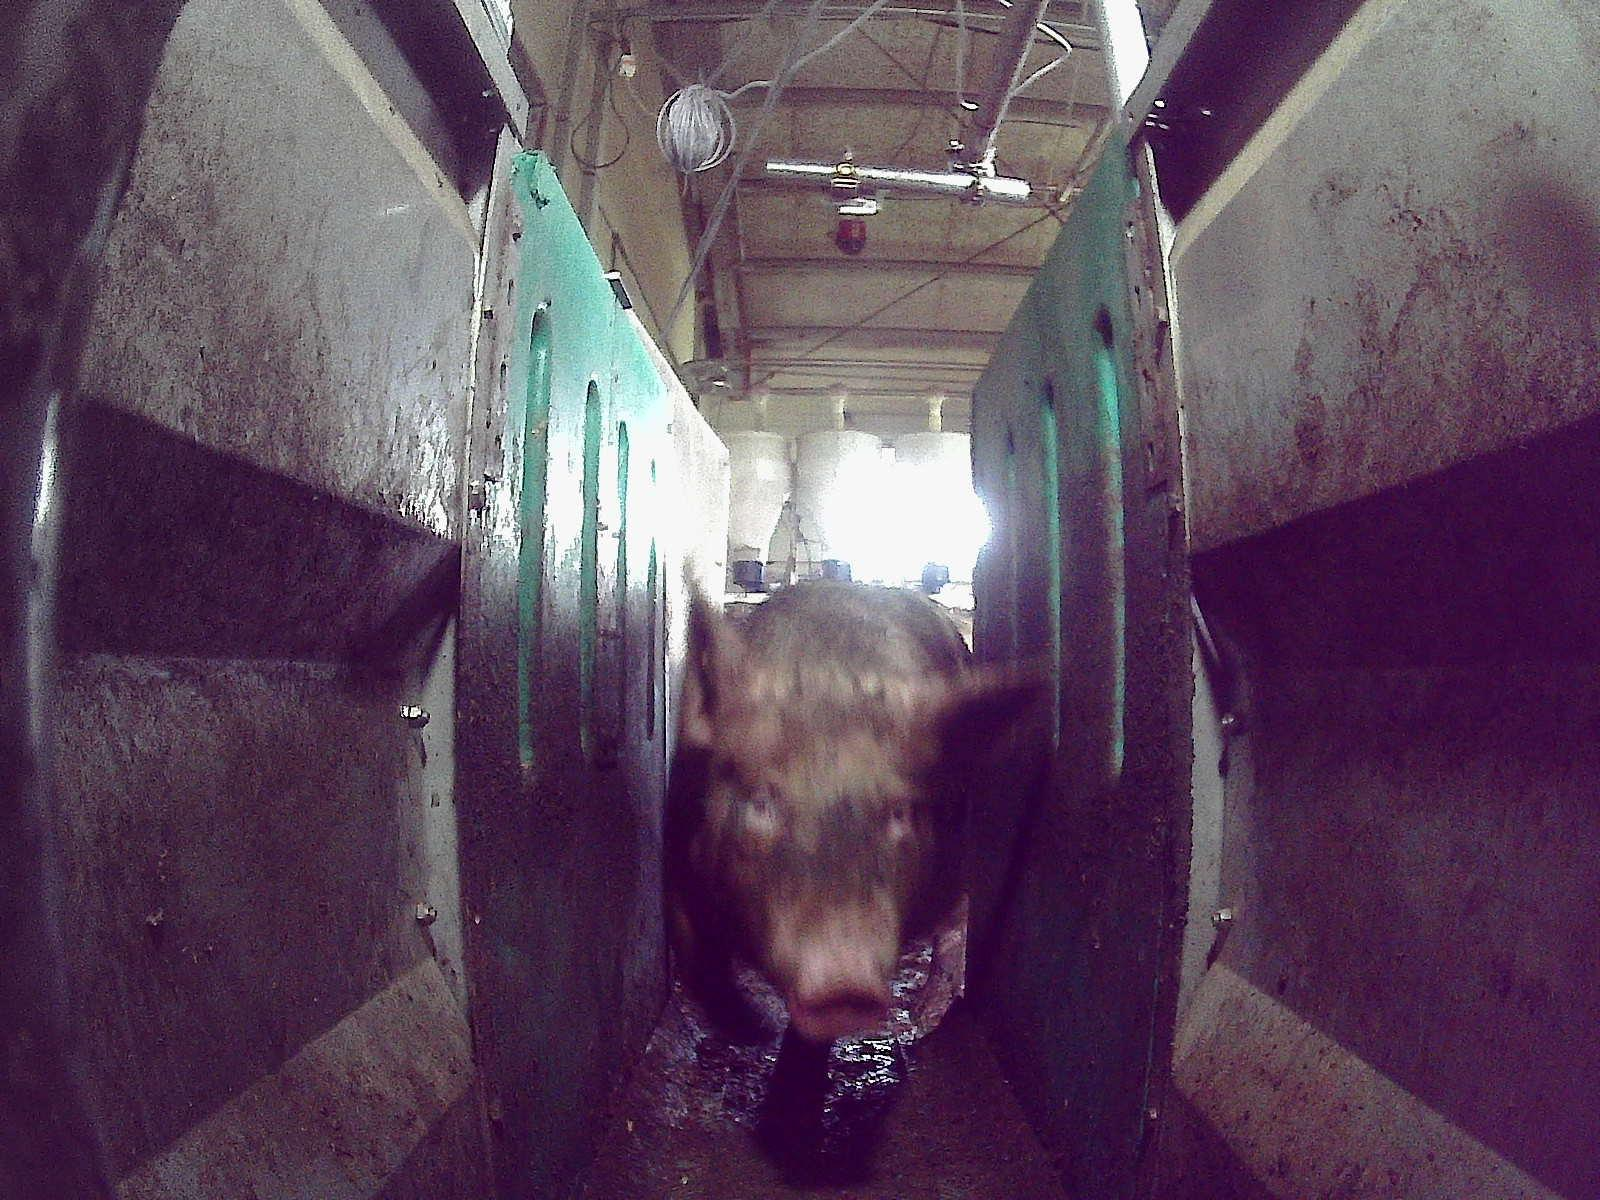Face: (706, 695, 928, 1033)
